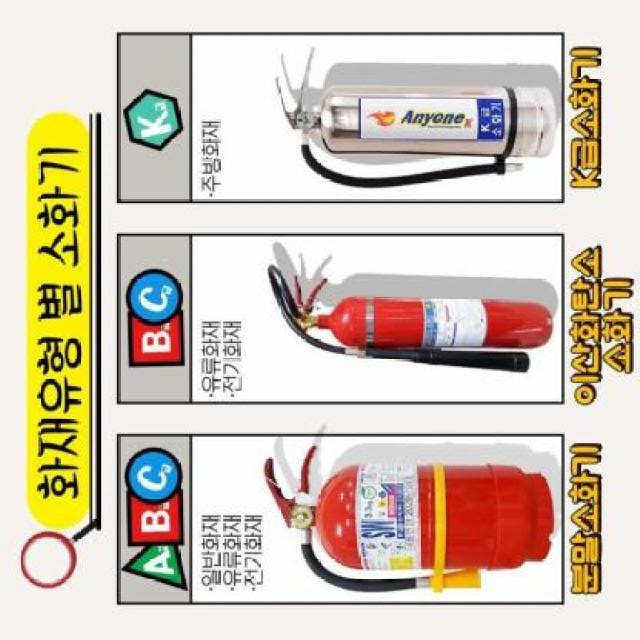fire extinguisher: (264, 445, 553, 593), (275, 73, 557, 189), (267, 264, 553, 373)
